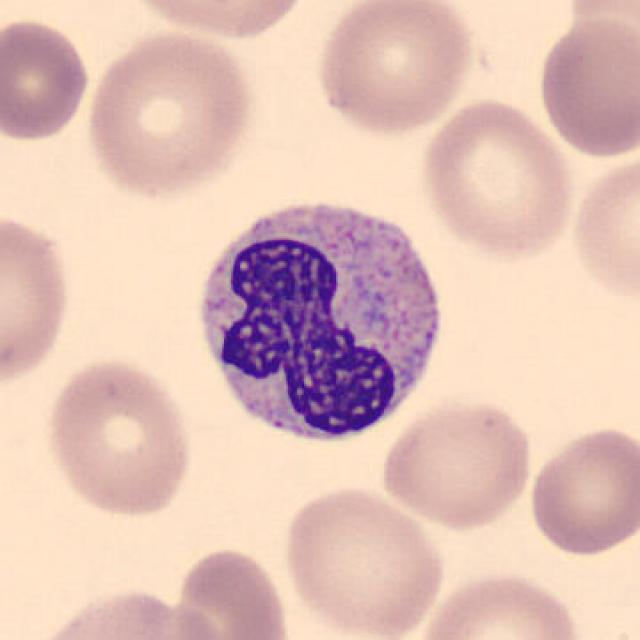Neutrophil: (185, 187, 455, 458)
RBC: (80, 24, 260, 202), (416, 93, 578, 264), (279, 483, 448, 638), (41, 354, 195, 522), (311, 0, 478, 139), (377, 393, 537, 531), (524, 421, 638, 559), (534, 9, 638, 160), (0, 204, 76, 394), (412, 567, 588, 640), (0, 12, 94, 146), (565, 148, 640, 310), (169, 543, 293, 640), (26, 583, 229, 640), (119, 0, 317, 41)
